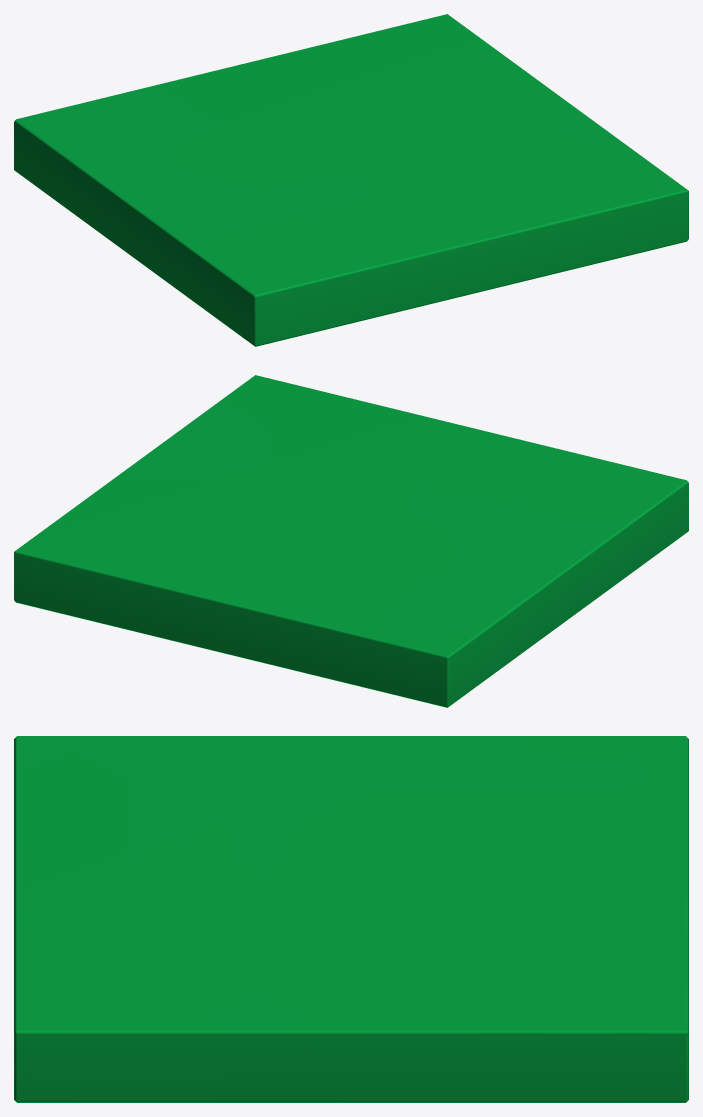
Rendered from Town_16_Base_1.glb.
3 views of the same model, one above another, from view 1: azimuth 30°, elevation 25°; view 2: azimuth 150°, elevation 25°; view 3: azimuth 270°, elevation 25° (orthographic). The views are drawn at different scales.
Parts seen in each view (by area): view 1: Town_16_Base_1; view 2: Town_16_Base_1; view 3: Town_16_Base_1.
Part boxes in pixels (left/top/right/bottom): Town_16_Base_1: left=14, top=14, right=688, bottom=346; Town_16_Base_1: left=14, top=375, right=688, bottom=707; Town_16_Base_1: left=14, top=736, right=688, bottom=1102.
Size of the model in its own units: 9.99 by 1.15 by 9.6.
1 material, 1 textured.
